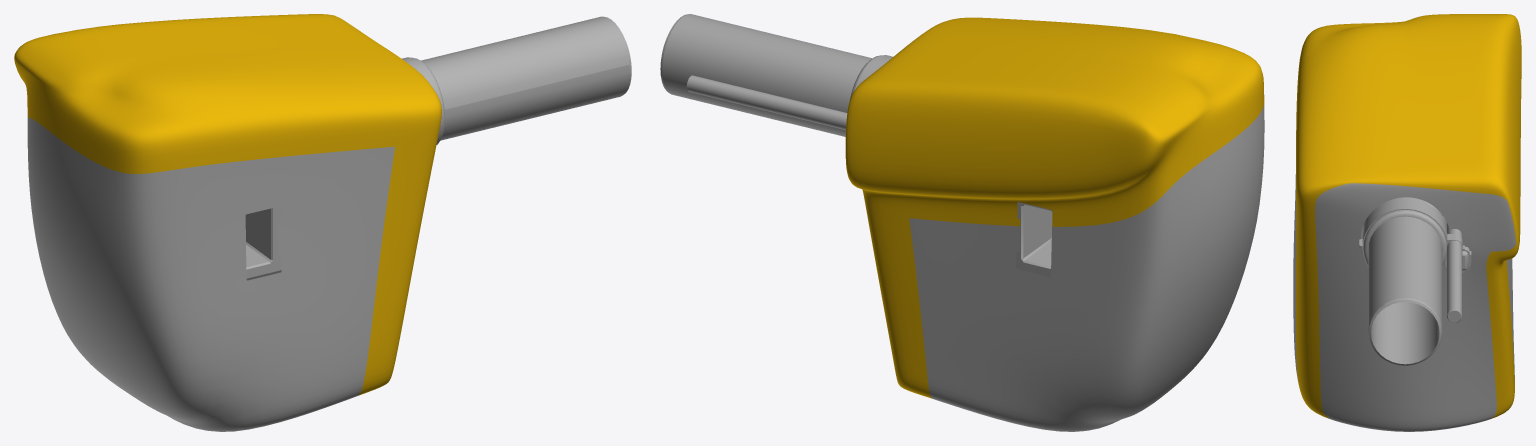
The model's file is applekraken_link2.dae.
3 renders of one model, left to right at view 1: azimuth 30°, elevation 25°; view 2: azimuth 150°, elevation 25°; view 3: azimuth 270°, elevation 25°, orthographic. The views are drawn at different scales.
Parts seen in each view (by area): view 1: VacuumMechanismPart02; view 2: VacuumMechanismPart02; view 3: VacuumMechanismPart02.
Part boxes in pixels (<box>): VacuumMechanismPart02: <box>14,14,631,431</box>; VacuumMechanismPart02: <box>660,14,1264,431</box>; VacuumMechanismPart02: <box>1293,14,1521,431</box>.
Size of the model in its own units: 0.9163 by 0.3672 by 0.5512.
